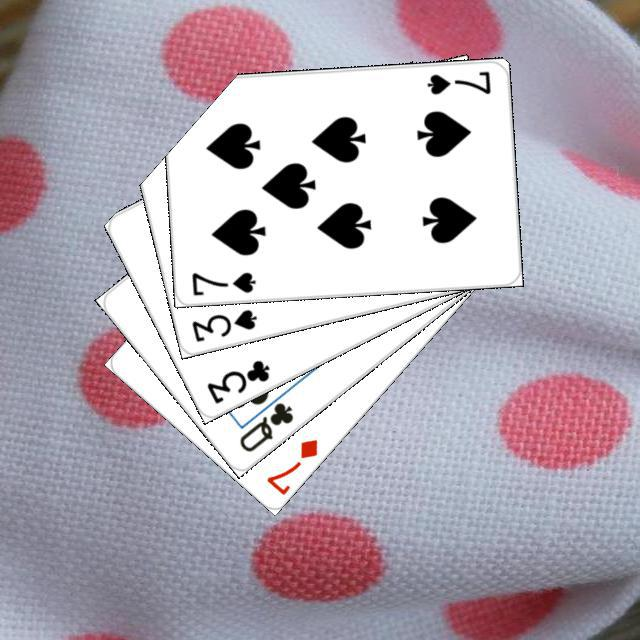3c: (201, 355, 272, 406)
3s: (187, 304, 259, 344)
7d: (261, 433, 320, 496)
7s: (187, 267, 258, 298), (422, 66, 492, 96)
Qc: (233, 385, 296, 454)
